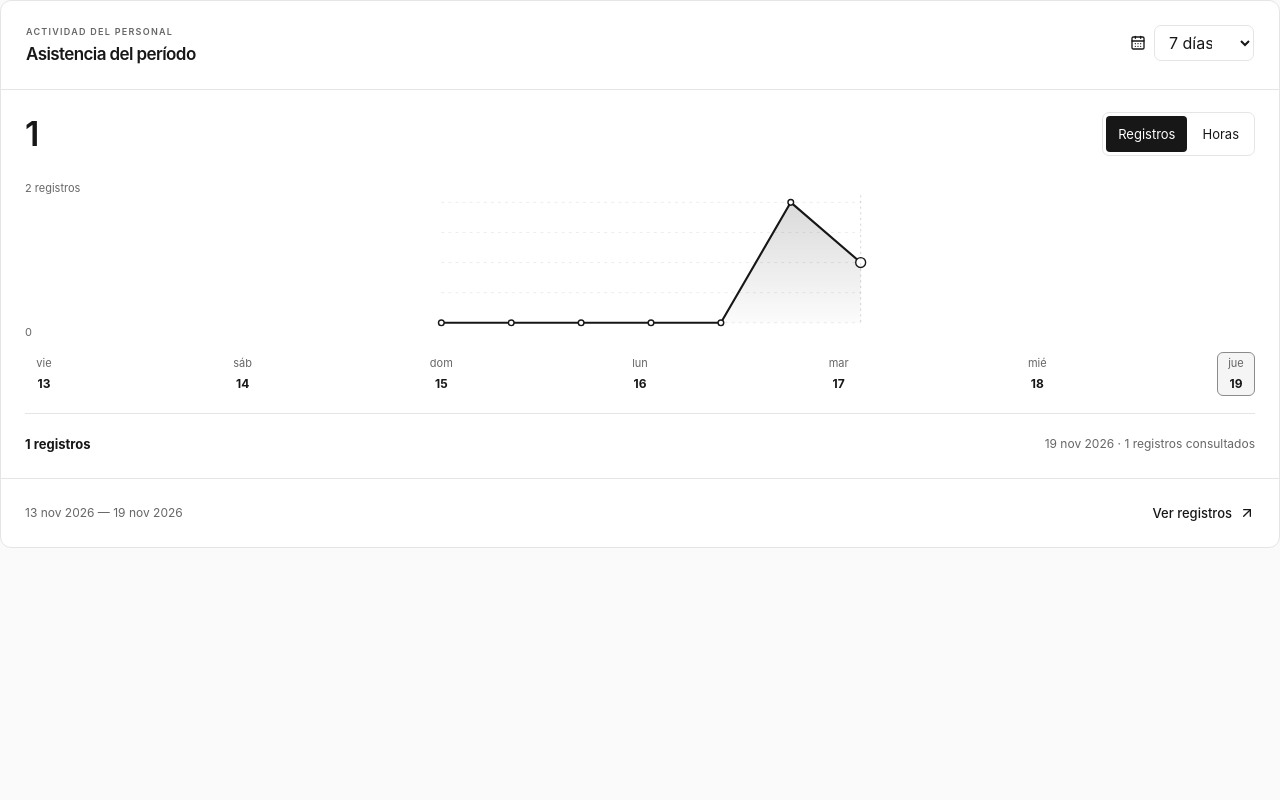
Test: actualiza el número principal, la fecha y el acceso al historial al elegir un día
Expected: the text with class "total-asistencia" reads "1", [25,117,38,151]
Click the button with aria-label "18 nov 2026: 2 registros": (1037, 374) [1018,352,1056,396]
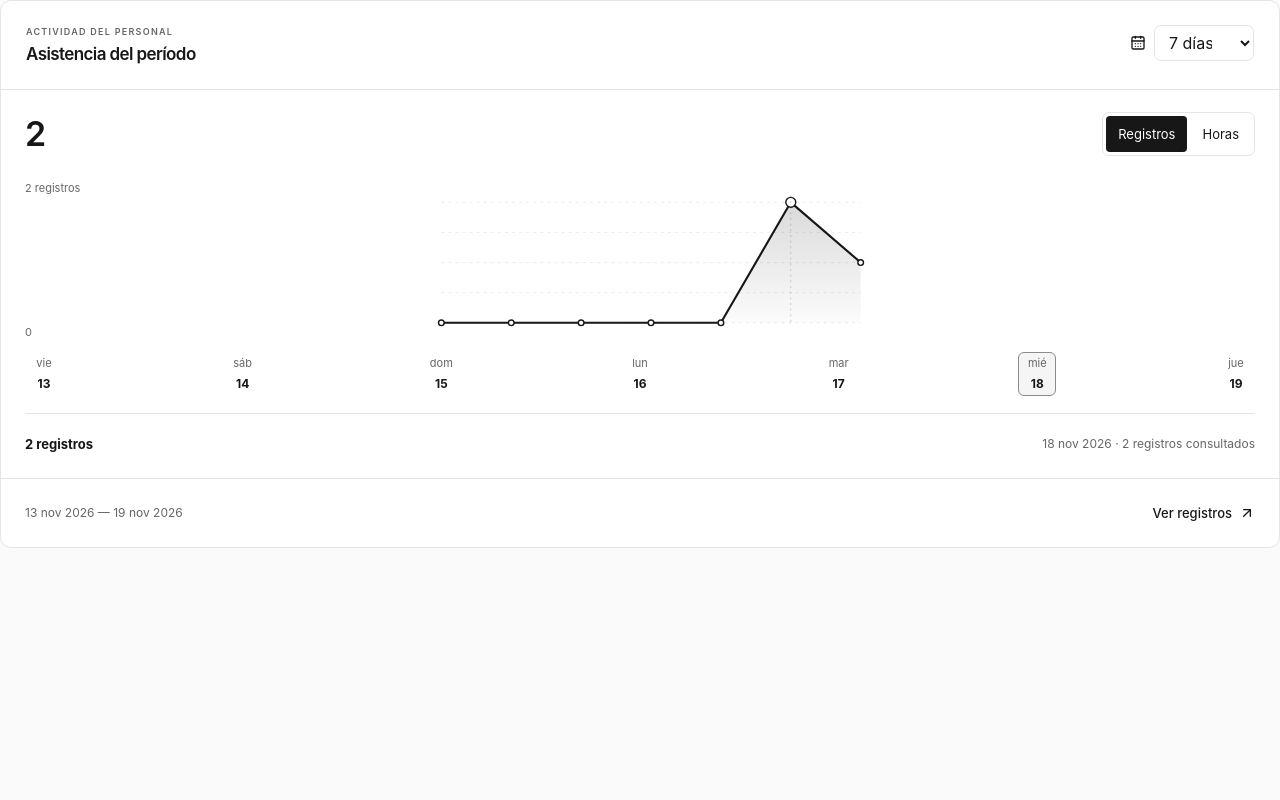
Expected: the text with class "total-asistencia" reads "2", [25,117,45,151]
Click the button "Horas": (1221, 134) [1190,116,1251,152]
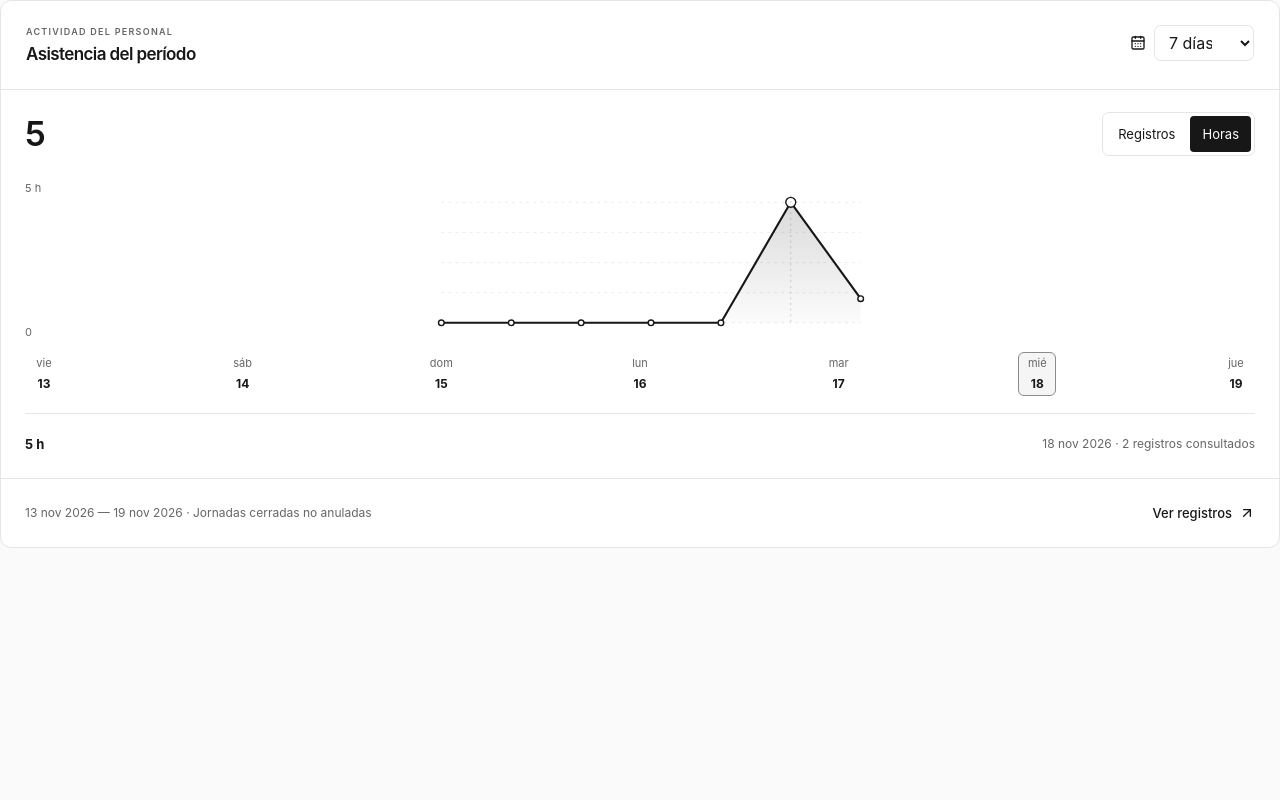
Expected: the text with class "total-asistencia" reads "5", [25,117,44,151]
Focus the button with aria-label "19 nov 2026: 1 h": (1236, 374) [1217,352,1255,396]
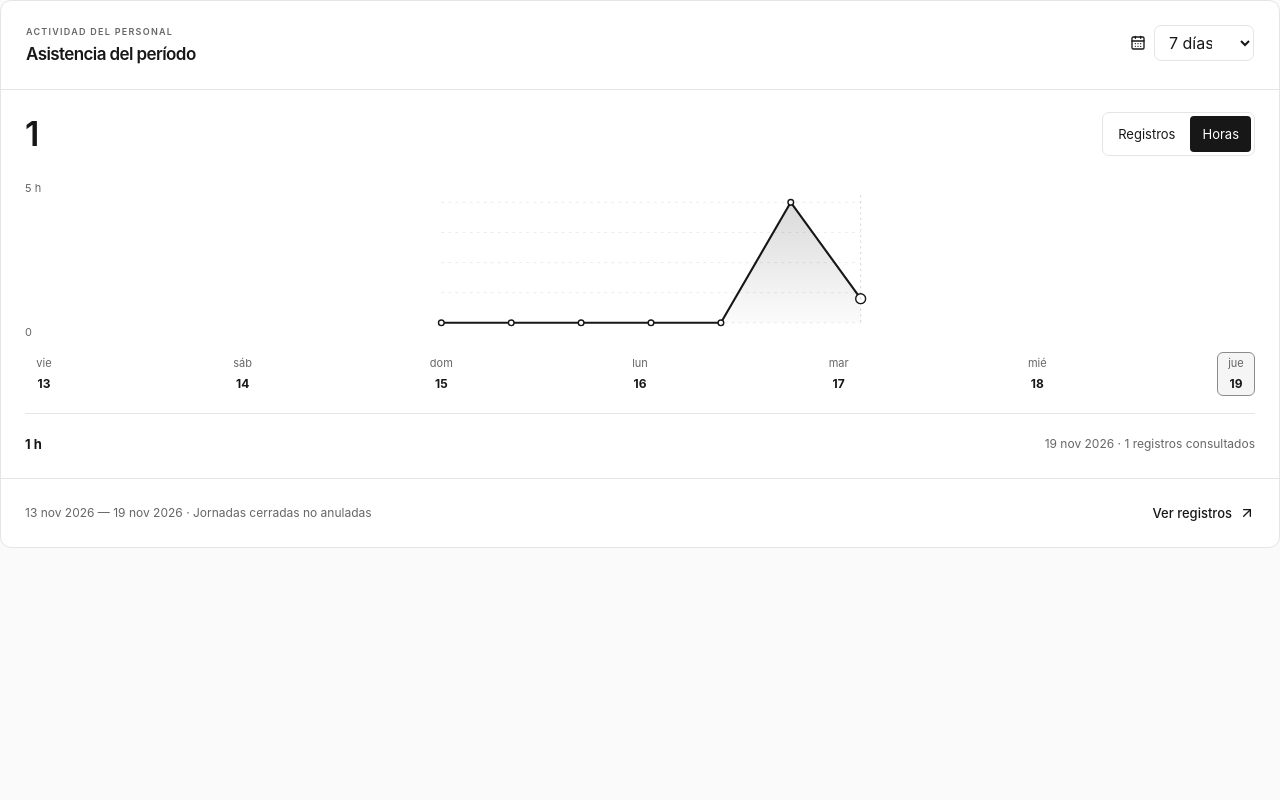
Expected: the text with class "total-asistencia" reads "1", [25,117,38,151]
Click the button "mar 17": (839, 374) [820,352,858,396]
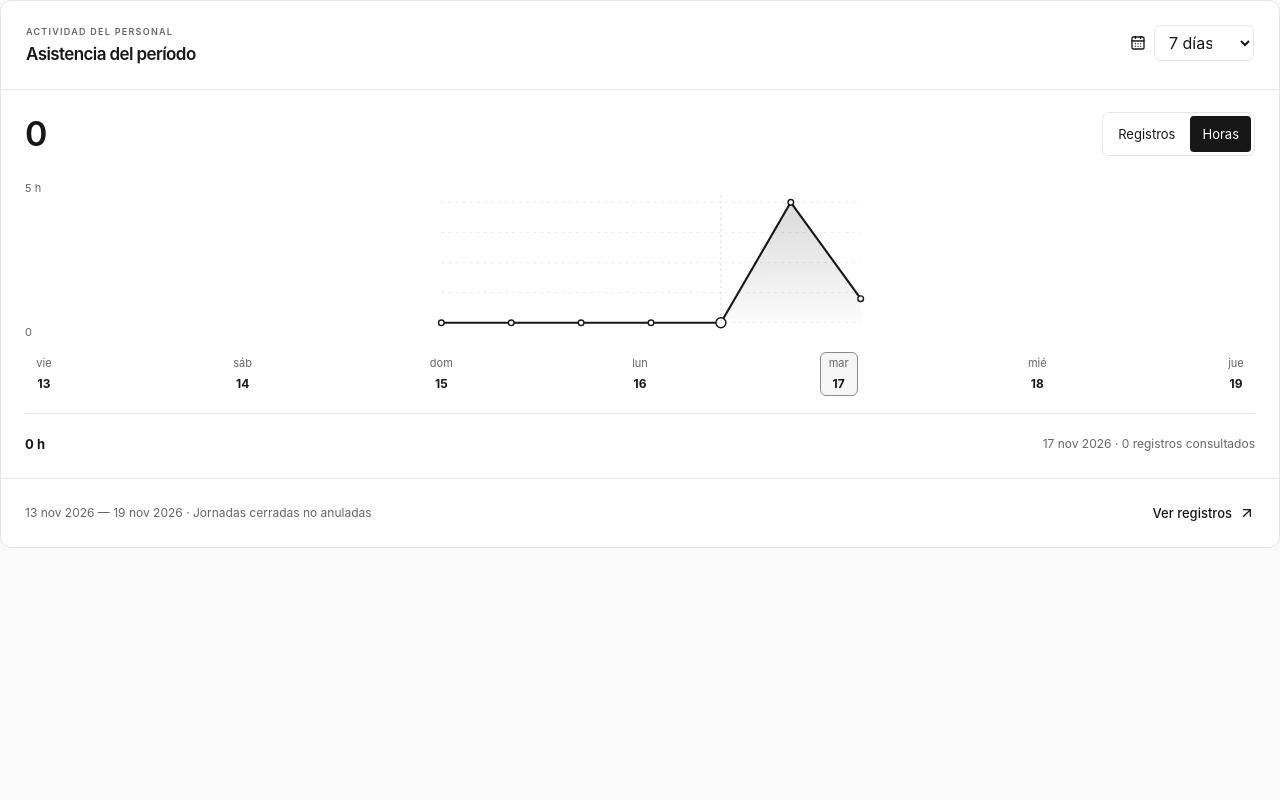
Expected: the text with class "total-asistencia" reads "0", [25,117,46,151]
